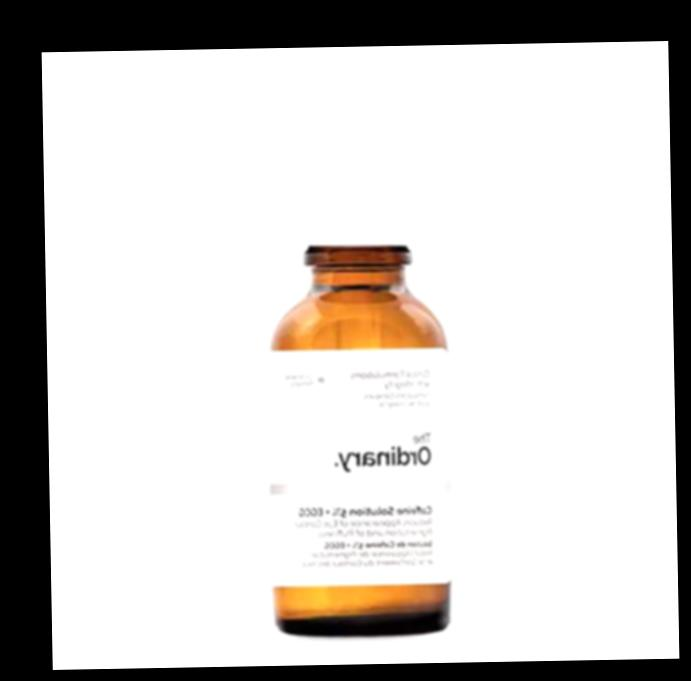cosmetic: (261, 72, 455, 634)
